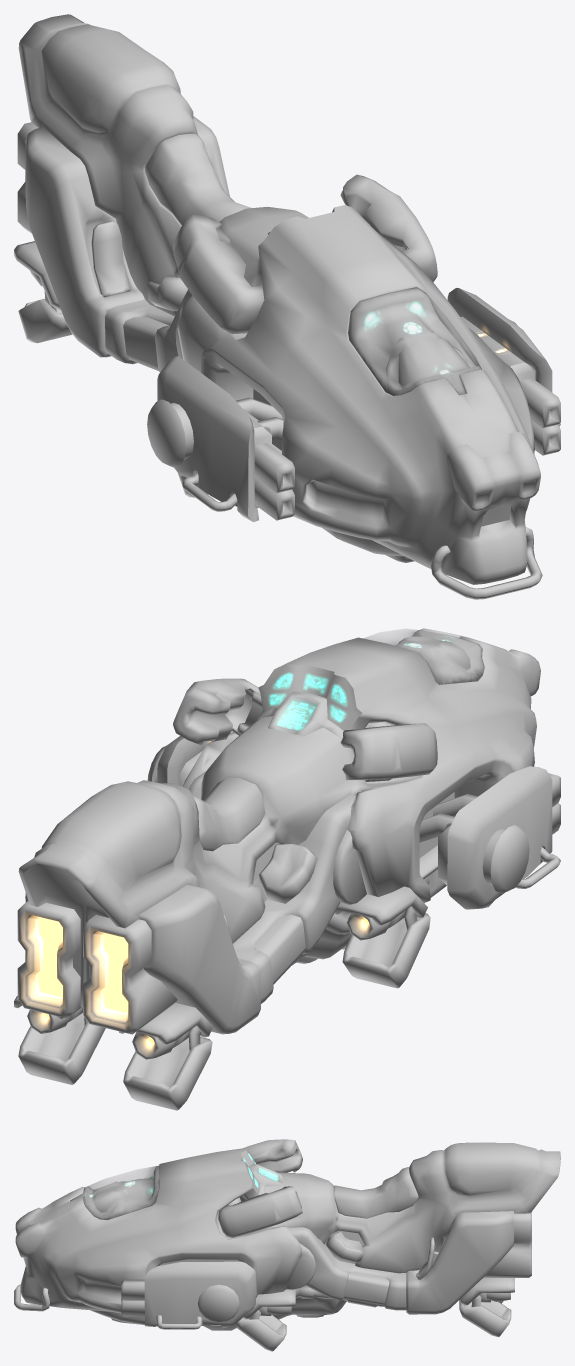
3 views of the same model, one above another, from view 1: azimuth 30°, elevation 25°; view 2: azimuth 150°, elevation 25°; view 3: azimuth 270°, elevation 25° (orthographic). The views are drawn at different scales.
Parts seen in each view (by area): view 1: Geode (×2); view 2: Geode (×2); view 3: Geode (×2).
Boxes of the visible parts, left/top/right/bottom form: Geode (×2): left=14, top=14, right=560, bottom=599; Geode (×2): left=14, top=628, right=560, bottom=1110; Geode (×2): left=14, top=1139, right=560, bottom=1351.
Size of the model in its own units: 146 by 119 by 329.
